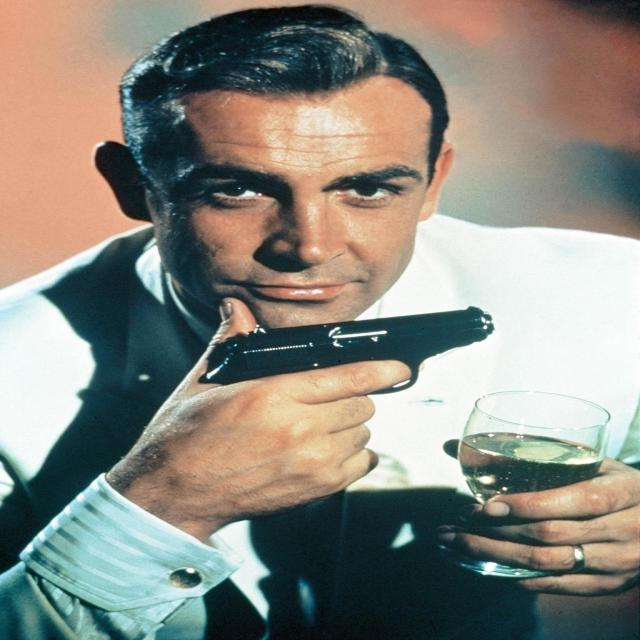Face: (133, 57, 460, 342)
